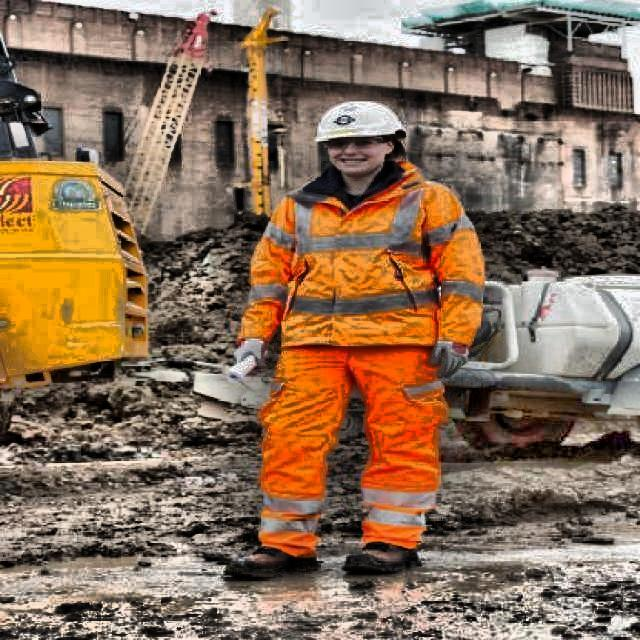safety_helmet: (313, 99, 406, 145)
safety_jacket: (238, 159, 486, 350)
